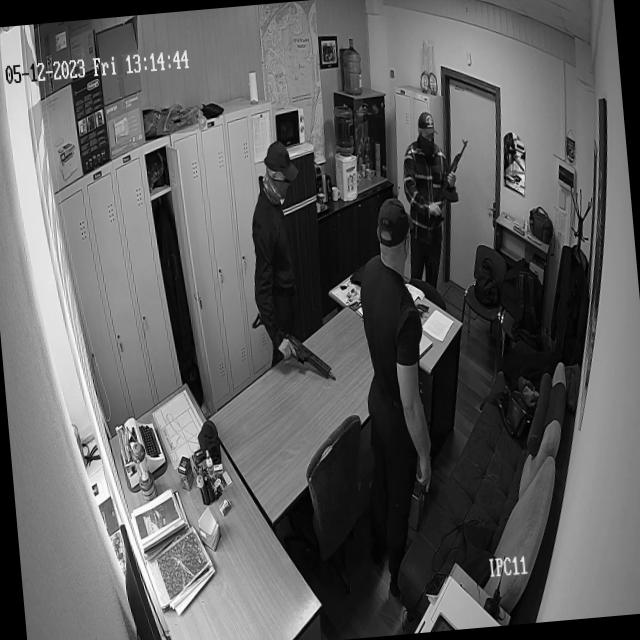gun: (250, 302, 336, 389), (428, 137, 476, 232), (414, 458, 432, 509)
person with a gun: (351, 194, 440, 546), (243, 140, 310, 358), (401, 114, 460, 284)
